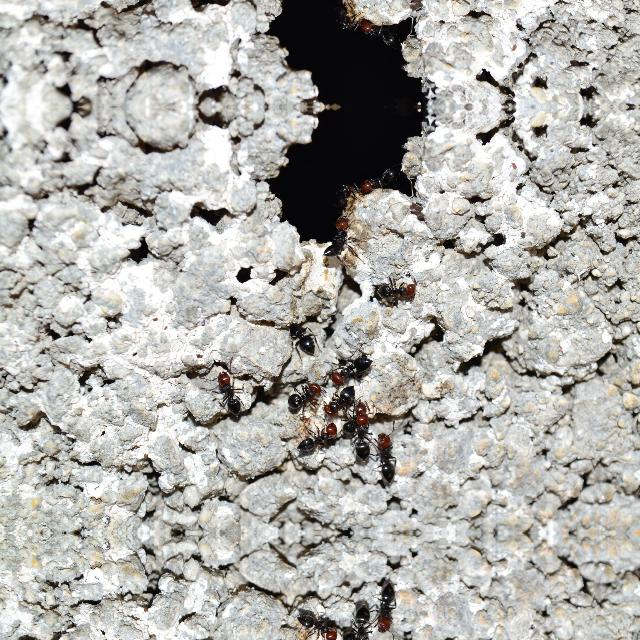Crematogaster: (332, 348, 376, 386), (297, 418, 343, 454), (208, 366, 242, 414), (372, 274, 420, 304), (358, 159, 398, 195), (358, 17, 398, 53), (286, 316, 320, 356), (297, 611, 343, 640), (286, 378, 324, 412), (348, 406, 372, 458), (374, 426, 396, 482), (374, 583, 396, 639), (322, 381, 356, 417), (324, 212, 350, 258), (342, 393, 368, 431), (348, 606, 371, 640), (338, 180, 354, 208), (338, 4, 354, 32)
